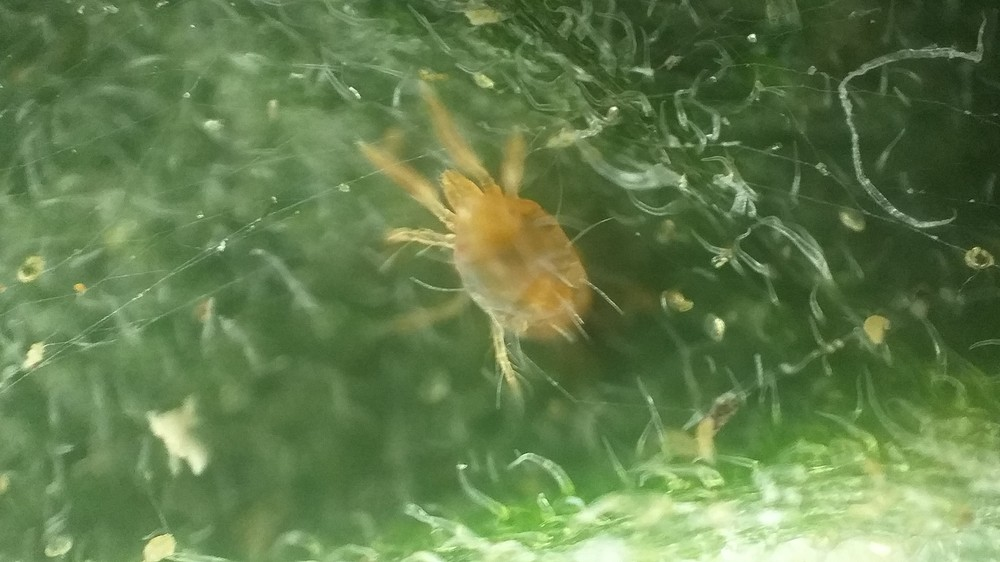Aracnido Rojo: (340, 78, 677, 405)
